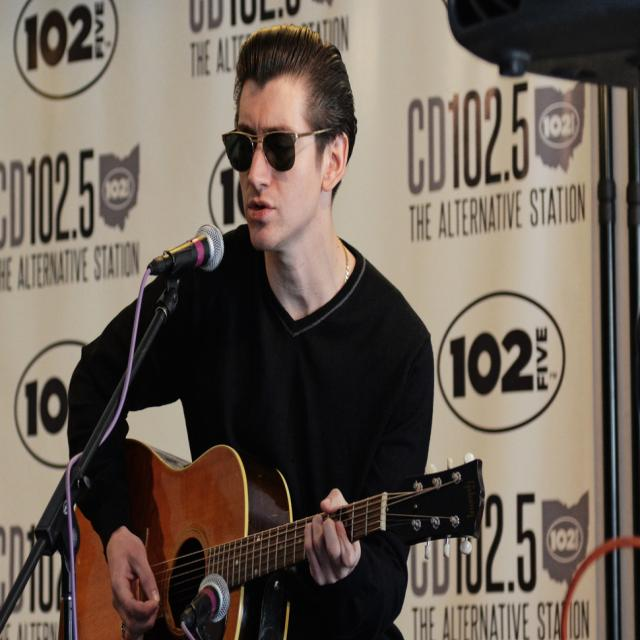Glasses: (221, 124, 335, 174)
